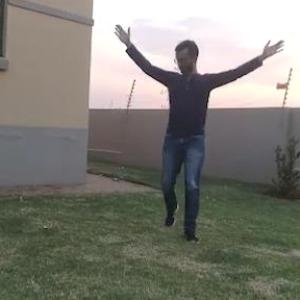takeoff: (111, 9, 295, 245)
